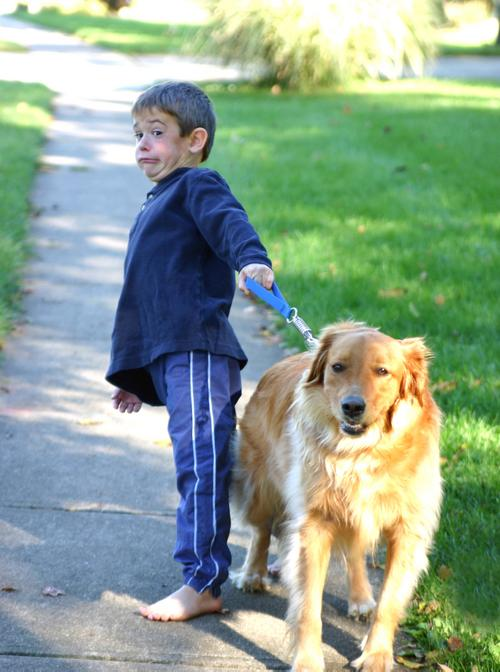person: (112, 80, 272, 620)
